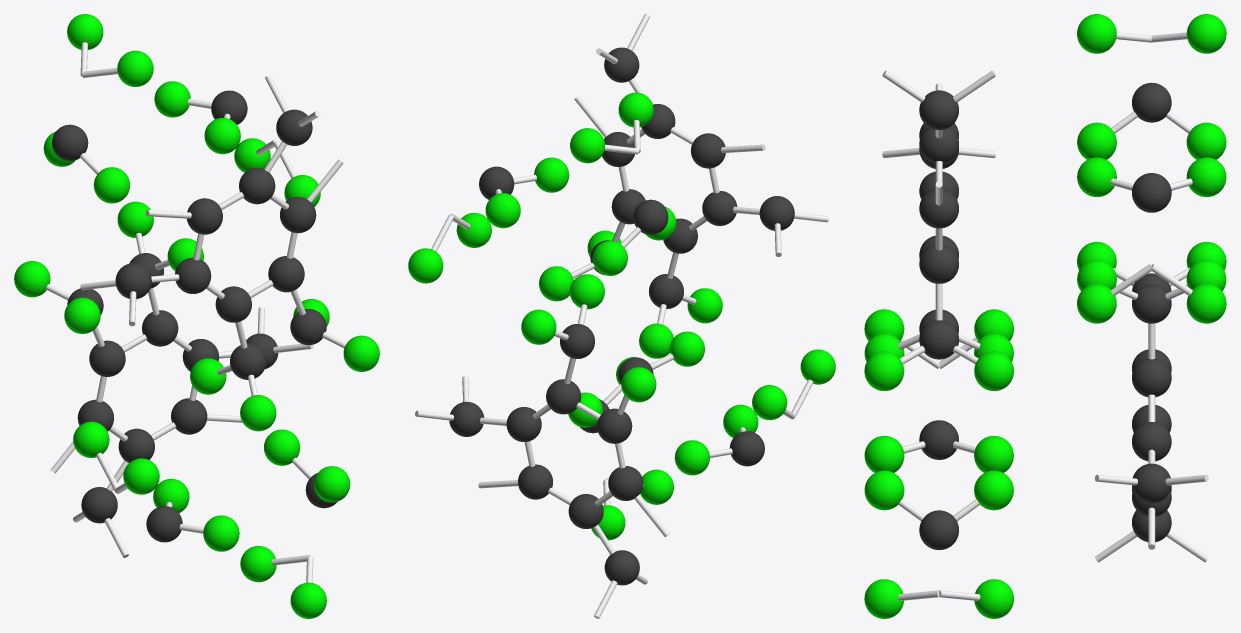
The model's file is structure_mpstyle.glb.
3 views of the same model, side by side, from view 1: azimuth 30°, elevation 25°; view 2: azimuth 150°, elevation 25°; view 3: azimuth 270°, elevation 25° (orthographic). The views are drawn at different scales.
Visible parts, largest first — view 1: world; view 2: world; view 3: world.
Part boxes in pixels (x1=…): world: x1=14, y1=14, x2=379, y2=618; world: x1=408, y1=14, x2=835, y2=618; world: x1=864, y1=14, x2=1226, y2=618.
Bounding box in the file's own units: 7.35 × 12.42 × 7.27.
